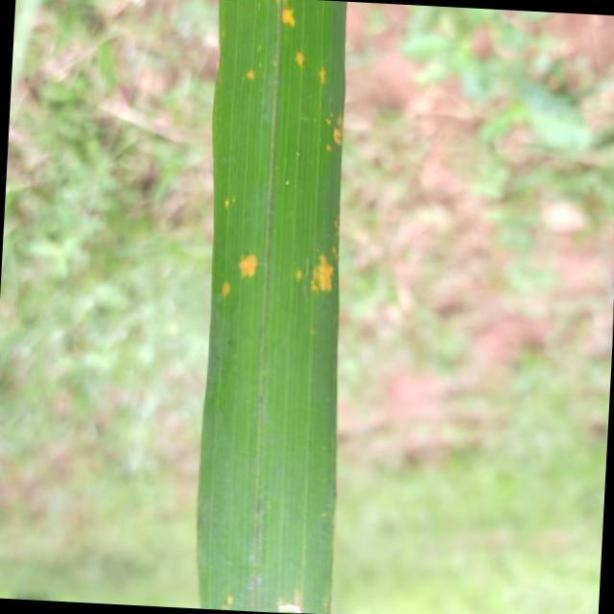Kalium: (197, 0, 347, 614)
